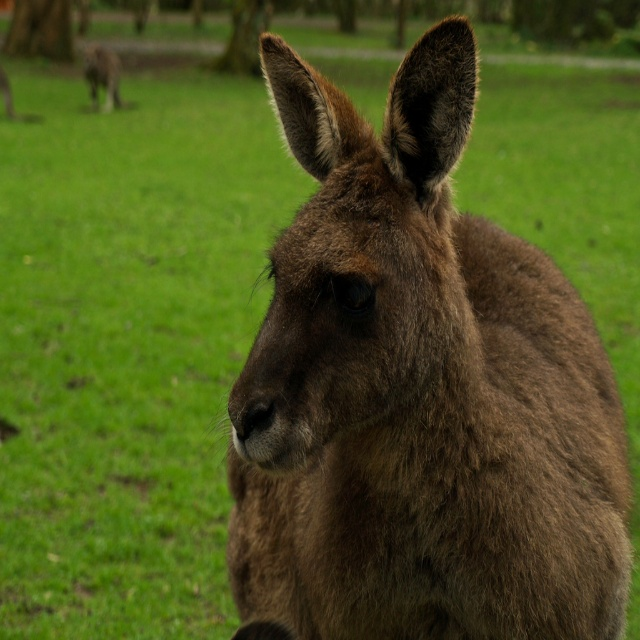Kangaroo: (199, 9, 640, 640)
